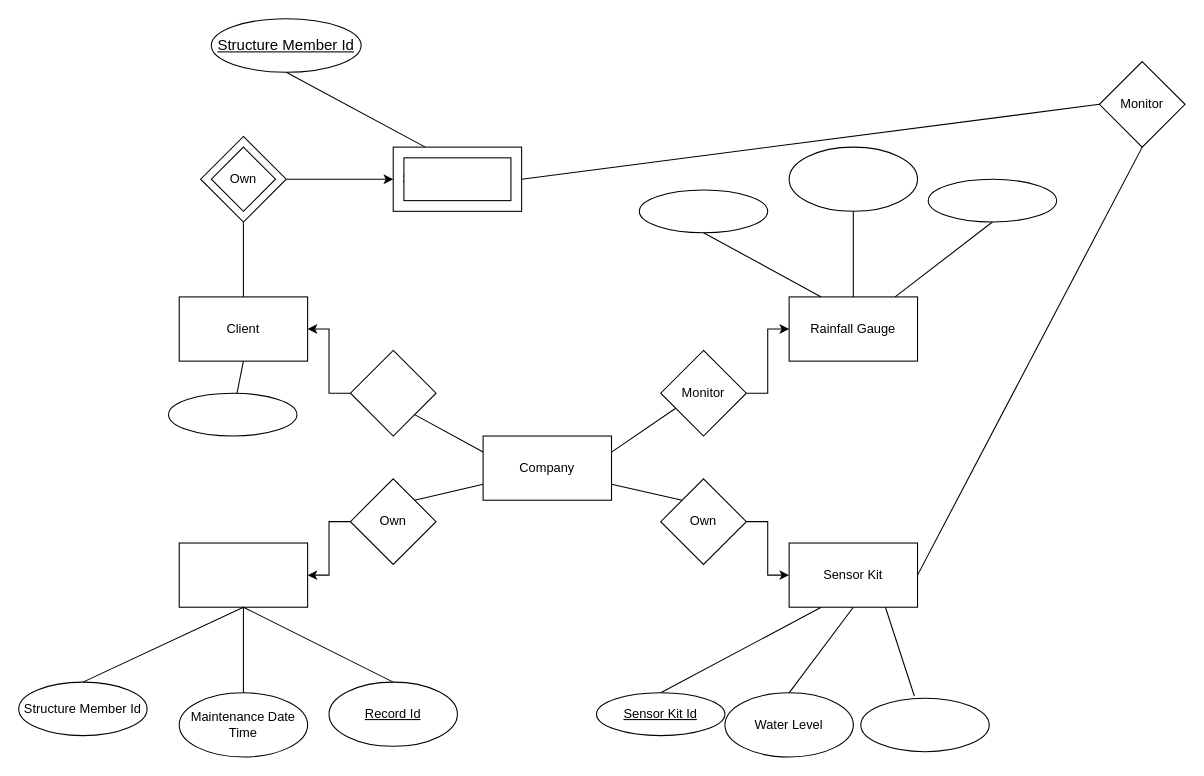
Image size: 1204x776. Some labels were removed from this diagram. Each missing label, with the centre of its shape:
Client Id: point (232, 414)
Gauge Id: point (703, 211)
Location: point (992, 200)
Maintenance Record: point (243, 574)
Rainfall(inch): point (853, 178)
Serves: point (392, 392)
Structure Member: point (457, 179)
Temperature: point (924, 724)
